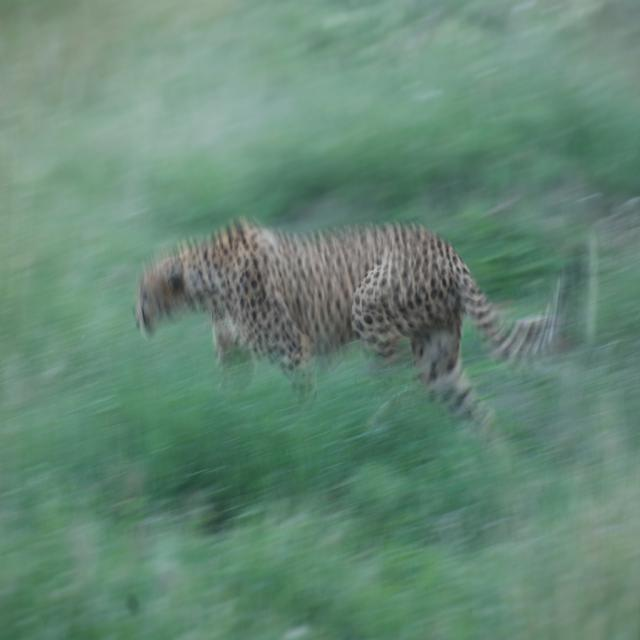Cheetah: (111, 196, 605, 442)
